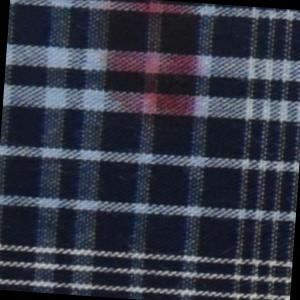Stain: (94, 1, 207, 137)
